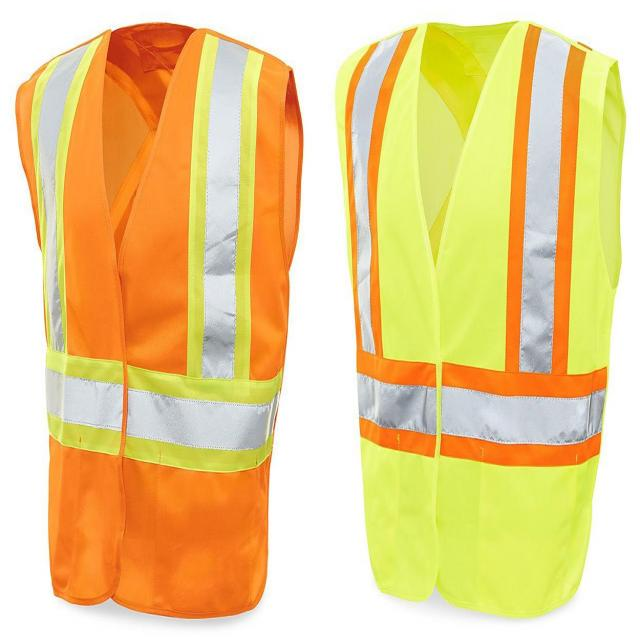Reflective-Jacket: (317, 9, 640, 630), (9, 6, 323, 633)
